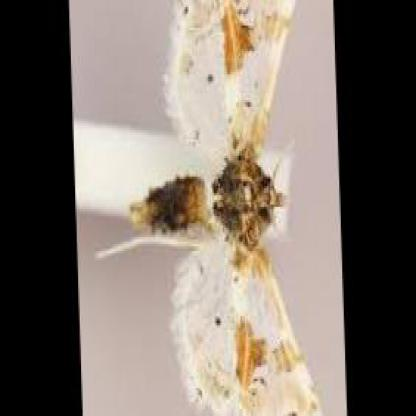leucinodes: (124, 1, 322, 407)
